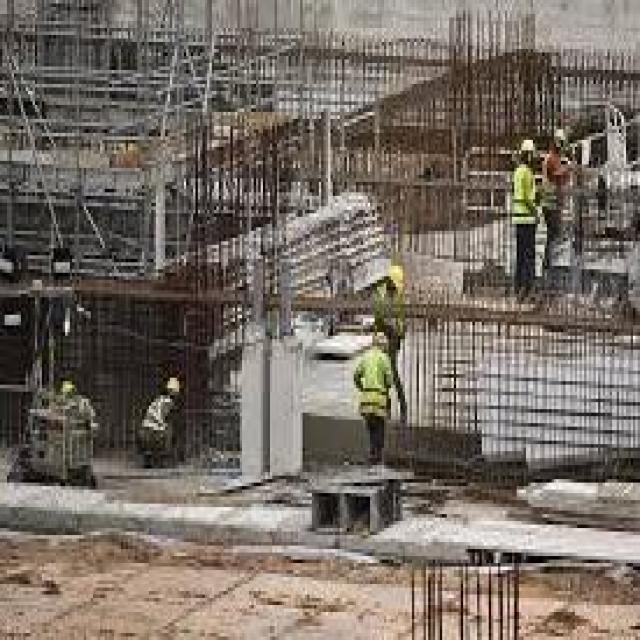Reflective-Jacket: (349, 343, 403, 430), (505, 164, 542, 231), (540, 150, 570, 220)
Safety-Helmet: (514, 133, 540, 161), (163, 371, 184, 398)
